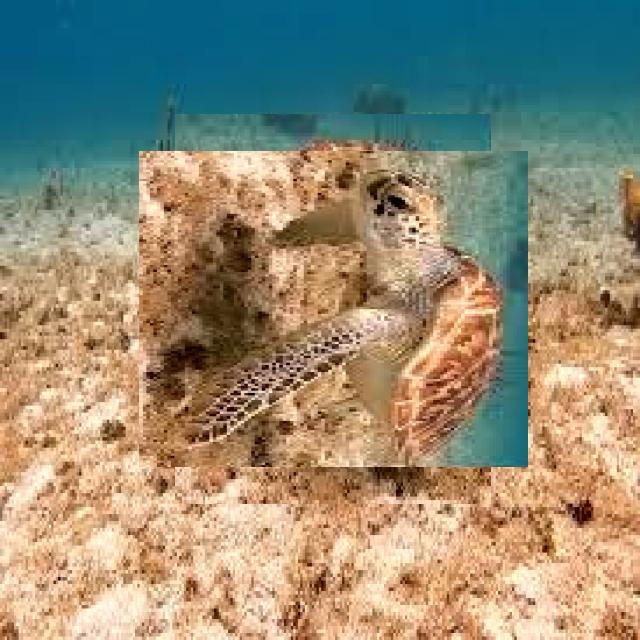Sea turtle: (156, 132, 510, 486)
